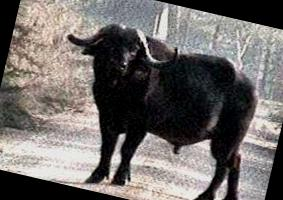Buffalo: (38, 11, 282, 200)
